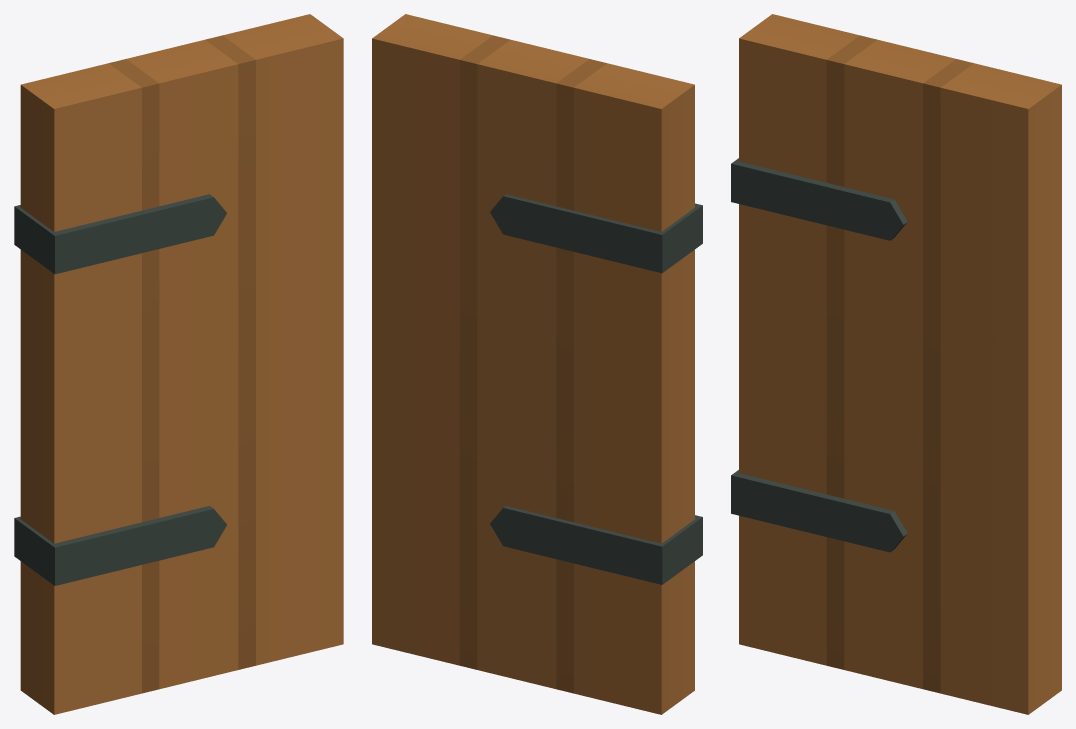
Rendered from Window_Shutter_01.fbx.
The picture shows the model from 3 angles, left to right: view 1: azimuth 30°, elevation 25°; view 2: azimuth 150°, elevation 25°; view 3: azimuth 330°, elevation 25°; orthographic projection.
Visible parts, largest first — view 1: Window_Shutter_01, Window_Shutter_01.002, Window_Shutter_01.001; view 2: Window_Shutter_01, Window_Shutter_01.001, Window_Shutter_01.002; view 3: Window_Shutter_01, Window_Shutter_01.001, Window_Shutter_01.002.
Boxes of the visible parts, x1,y1,x2,y2 form: Window_Shutter_01: (20,14,343,714); Window_Shutter_01.002: (14,506,226,585); Window_Shutter_01.001: (14,194,226,274); Window_Shutter_01: (372,14,694,714); Window_Shutter_01.001: (490,194,702,273); Window_Shutter_01.002: (490,506,702,584); Window_Shutter_01: (739,14,1061,714); Window_Shutter_01.001: (731,158,907,240); Window_Shutter_01.002: (731,470,907,552).
Size of the model in its own units: 0.5061 by 1 by 0.1214.
